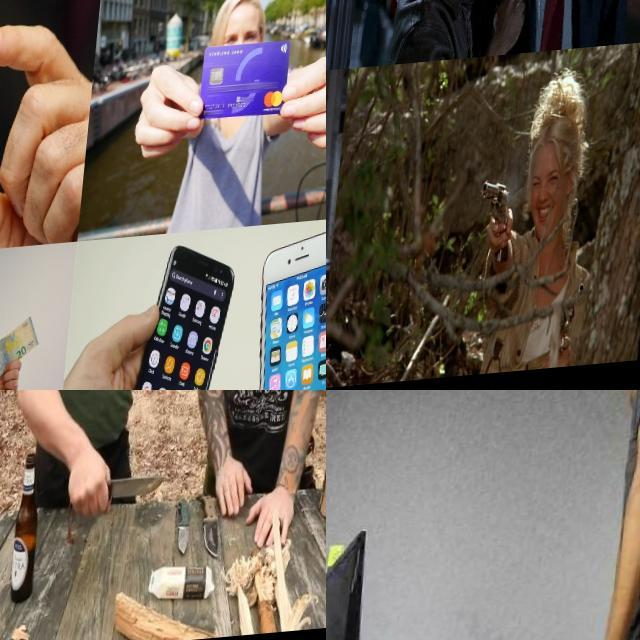-: (81, 459, 184, 532)
gun-knife-thesis - v11 Yolov5 augmented: (482, 180, 524, 276), (494, 0, 549, 56), (326, 0, 351, 77), (326, 197, 338, 255)
